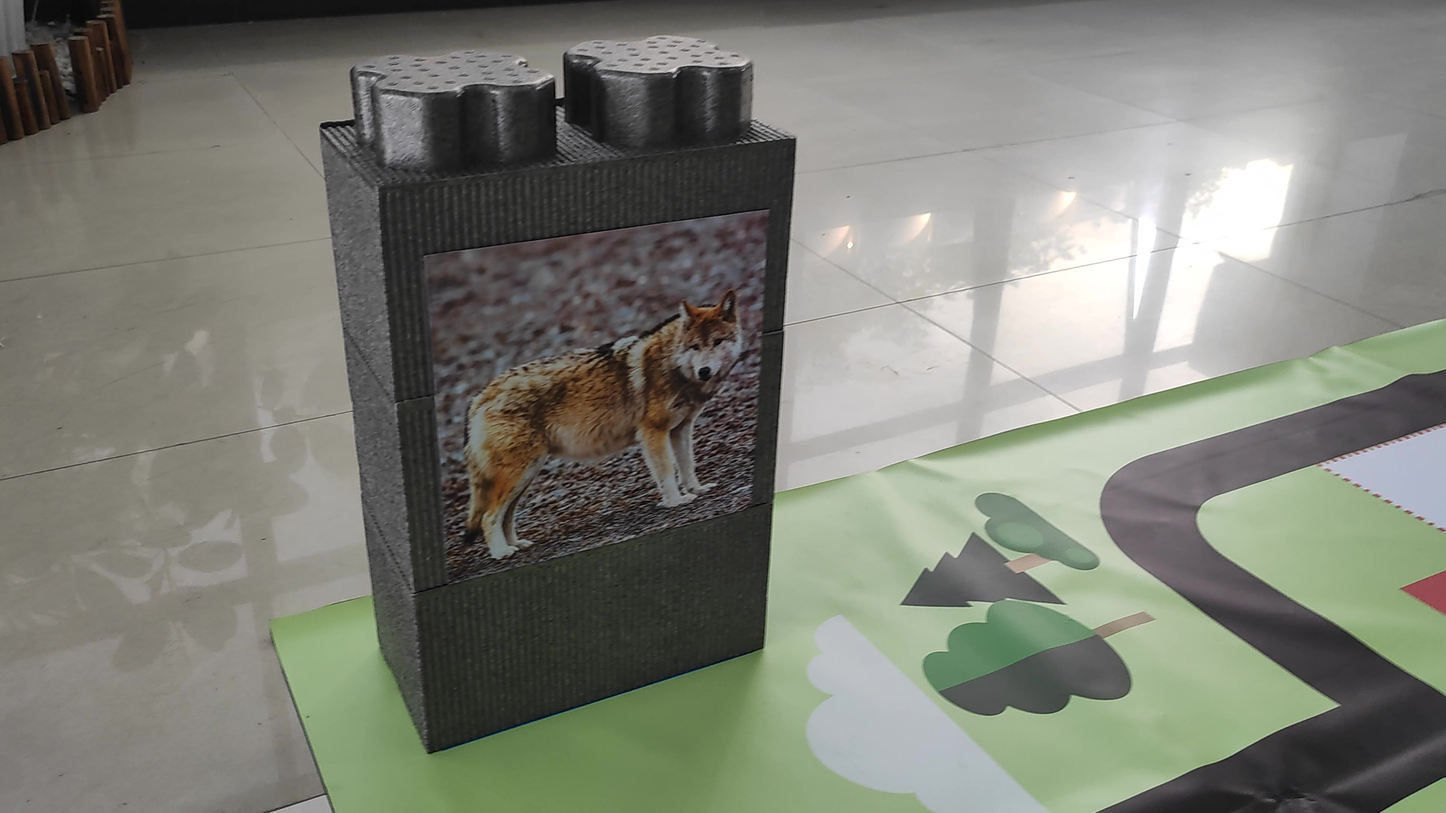wolf: (439, 287, 786, 549)
